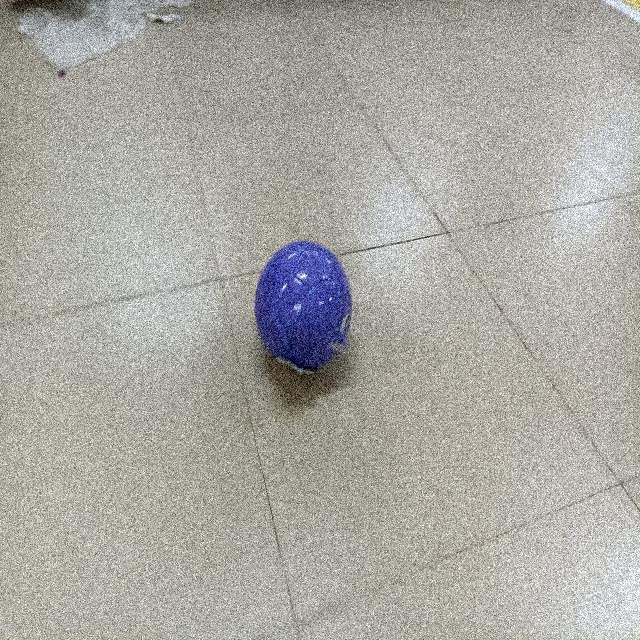purple_ball: (247, 234, 360, 380)
